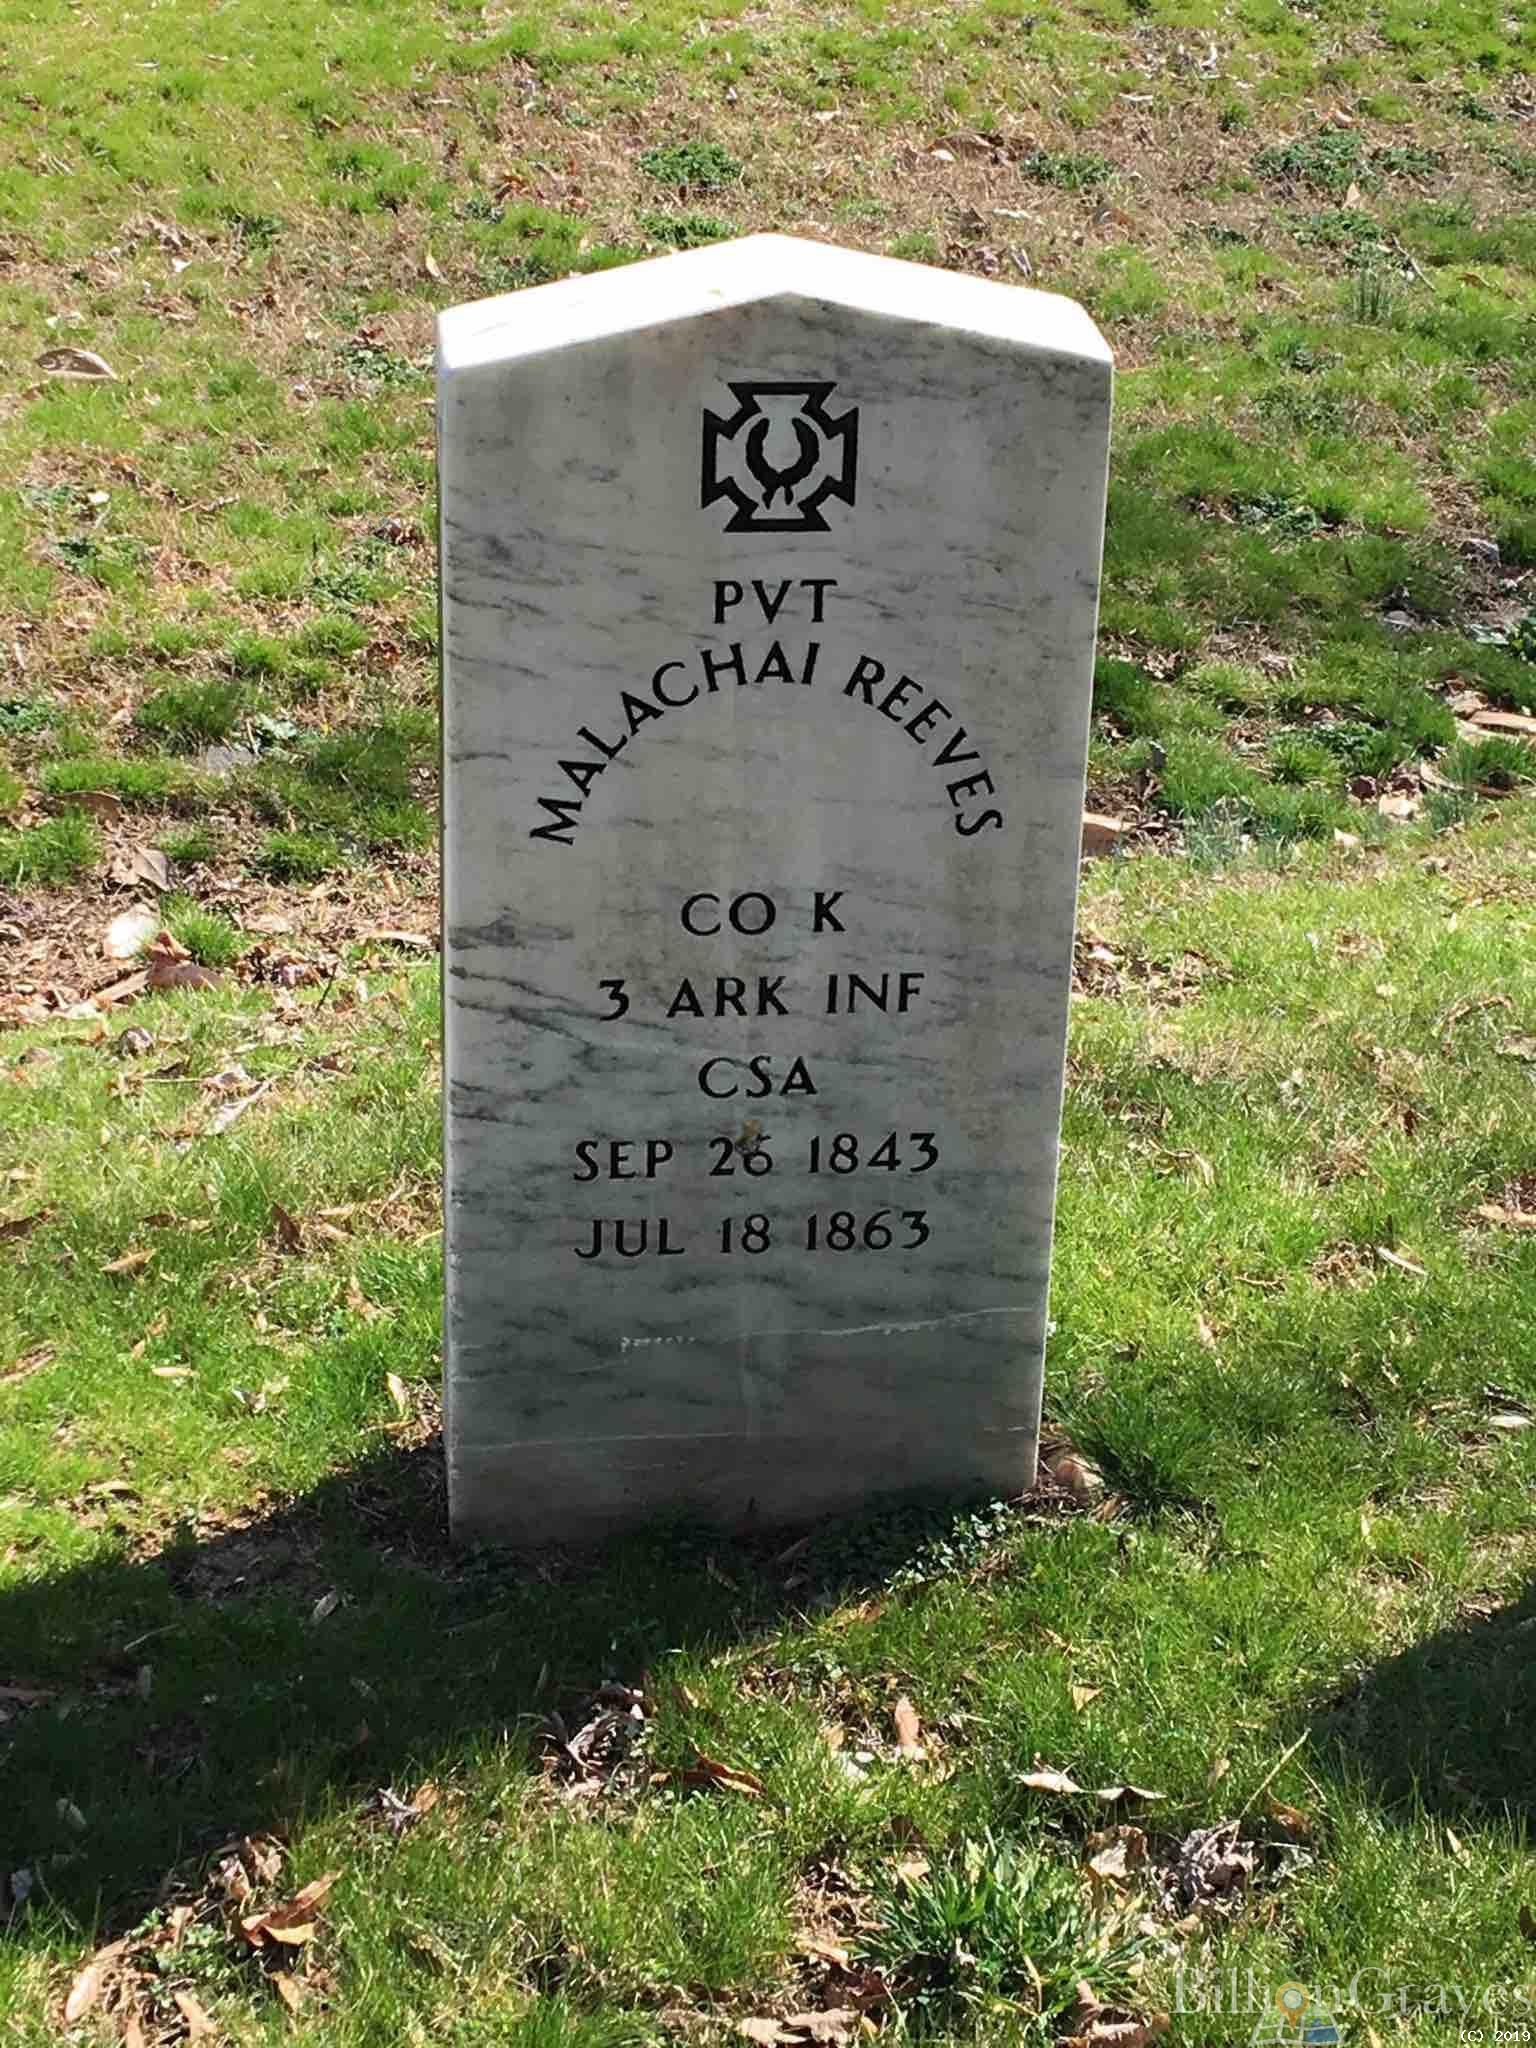military: (431, 224, 1113, 1534)
